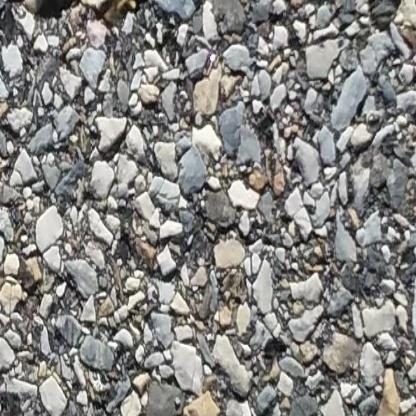Cracks: (1, 0, 99, 22), (113, 0, 153, 16)
